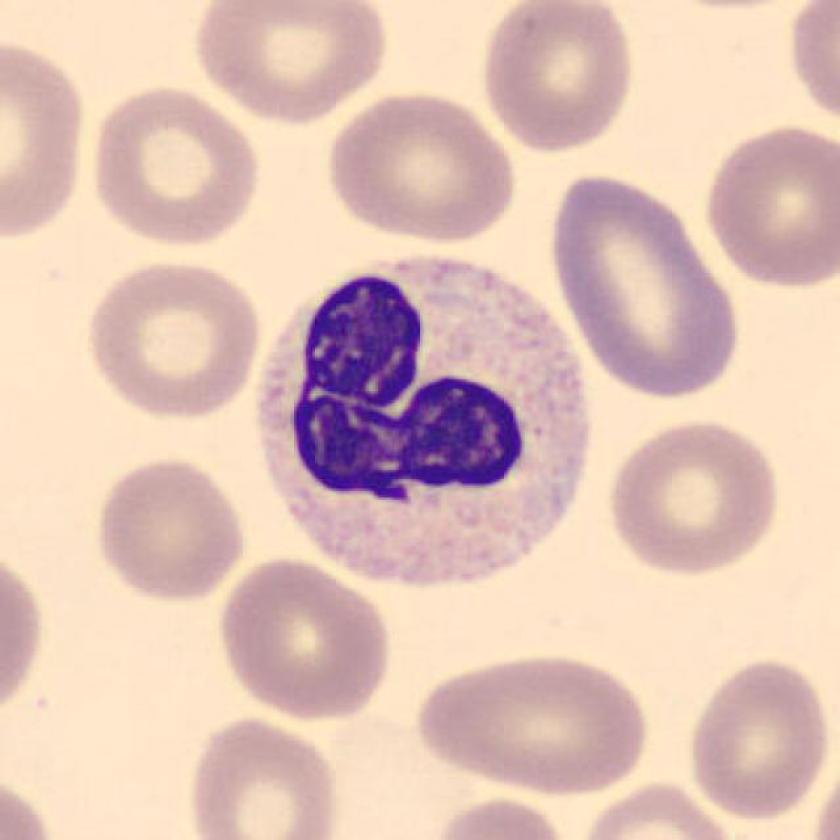neutrophil: (258, 256, 594, 585)
